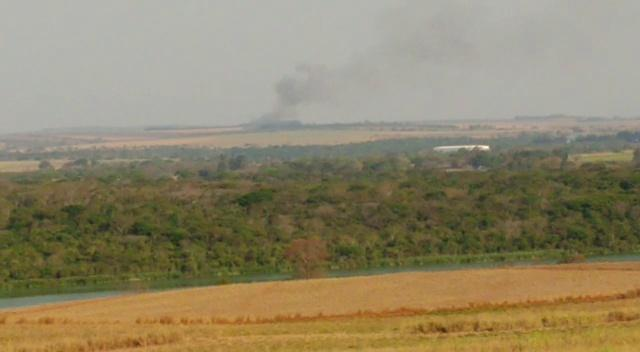smoke: (280, 78, 309, 111)
